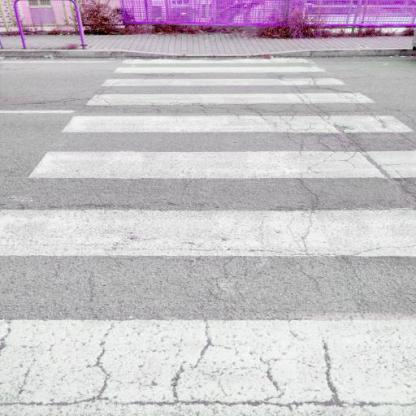crosswalk: (22, 108, 415, 188), (93, 65, 350, 92)
